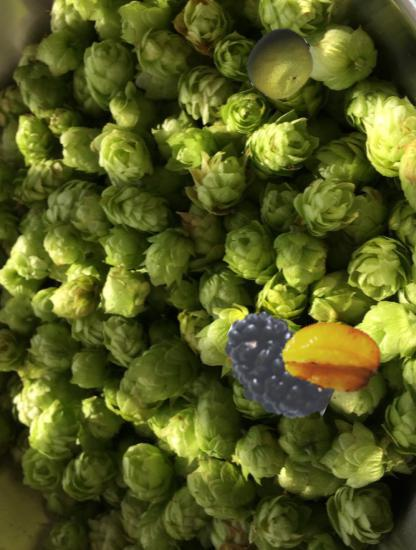Carambula: (281, 308, 382, 409)
Mulberry: (218, 307, 339, 428)
Pomelo: (245, 29, 316, 100)
